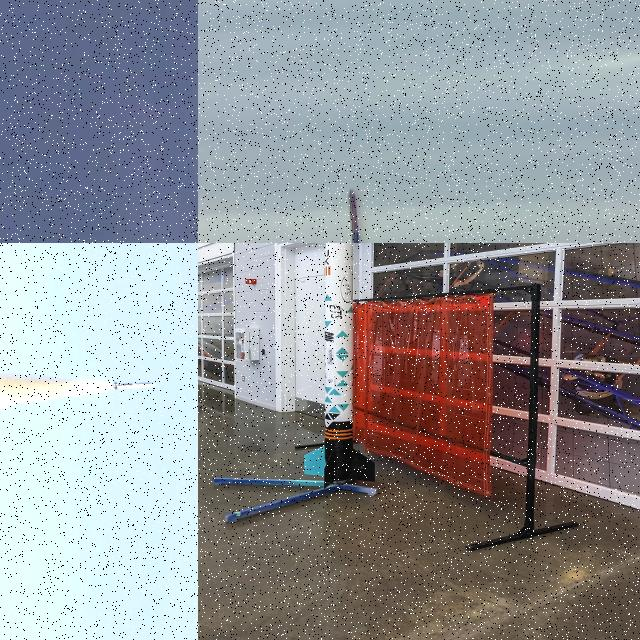Rocket: (304, 243, 375, 489), (346, 188, 365, 243), (112, 381, 155, 391)
